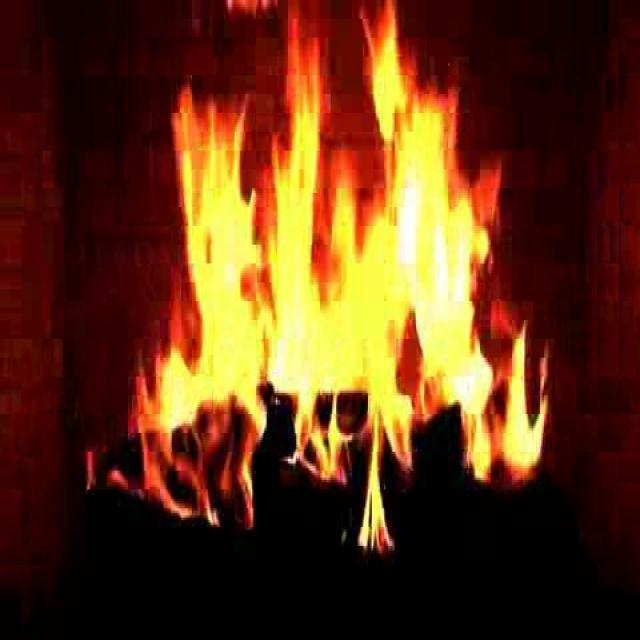Fire: (97, 0, 553, 539)
